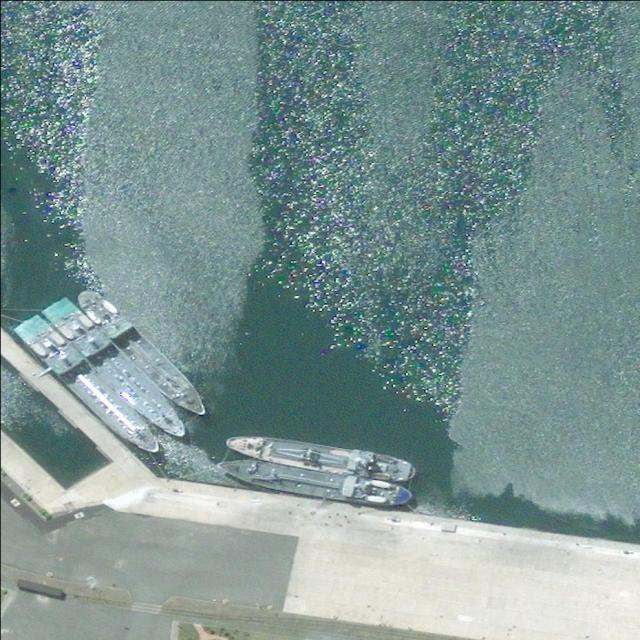Landing: (40, 292, 194, 446), (12, 309, 167, 460), (71, 284, 215, 424), (215, 456, 412, 510), (224, 430, 413, 484)
